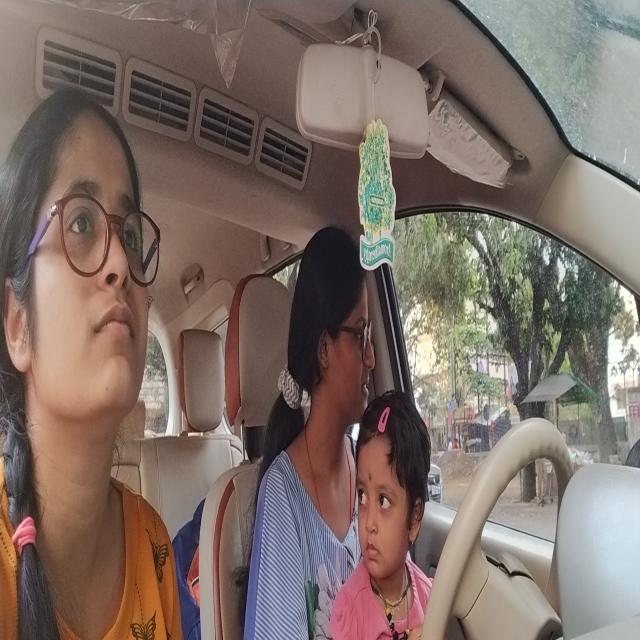child: (355, 390, 432, 590)
person: (1, 84, 163, 440), (291, 220, 374, 425)
